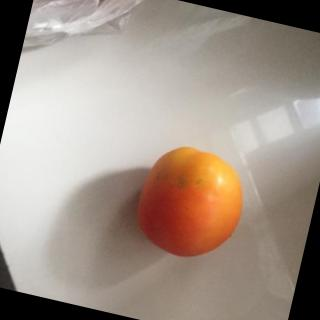Tomat: (110, 121, 270, 278)
